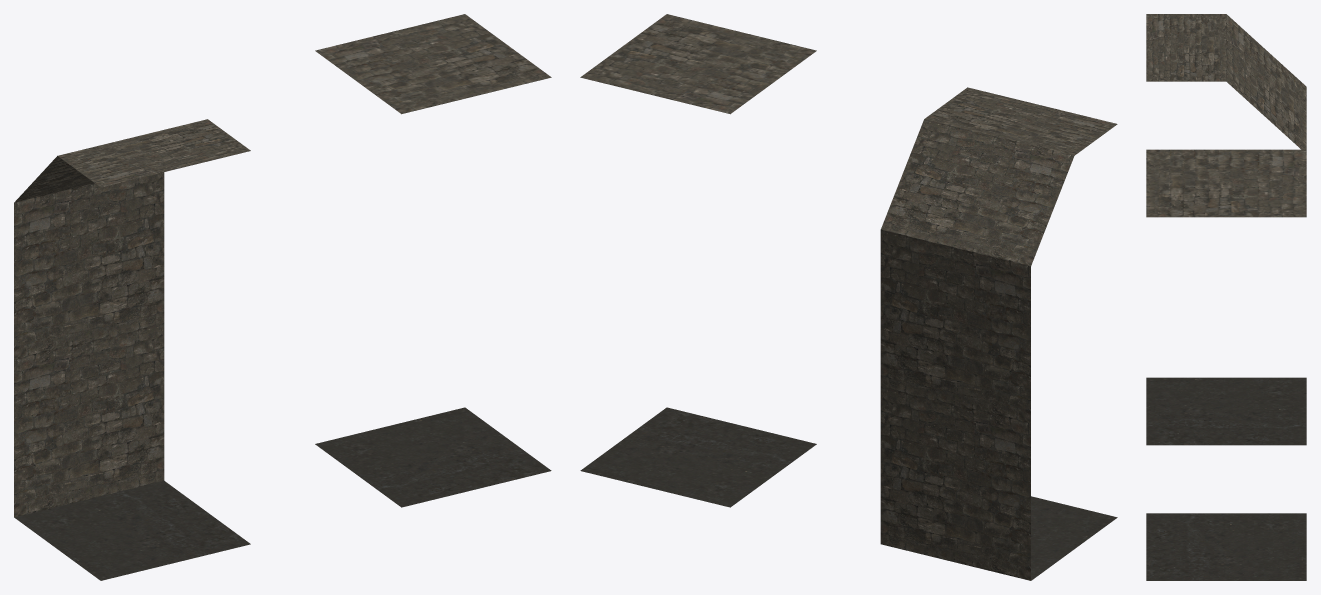
3 views of the same model, side by side, from view 1: azimuth 30°, elevation 25°; view 2: azimuth 150°, elevation 25°; view 3: azimuth 270°, elevation 25° (orthographic). The views are drawn at different scales.
Visible parts, largest first — view 1: Wall, Ground; view 2: Wall, Ground; view 3: Wall, Ground.
Part boxes in pixels (x1,y1,x2,y2): Wall: (14, 119, 250, 580); Ground: (315, 14, 551, 507); Wall: (880, 87, 1117, 580); Ground: (580, 14, 816, 507); Wall: (1146, 14, 1306, 445); Ground: (1146, 149, 1306, 580).
Bounding box in the file's own units: 3 × 2.5 × 1.
2 materials, 2 textured.
